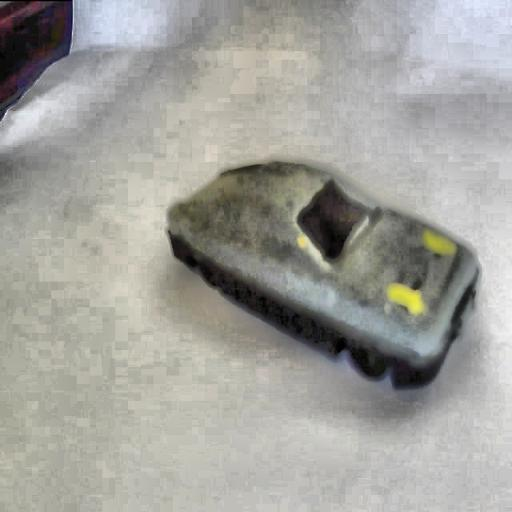normal_car: (161, 153, 486, 392)
